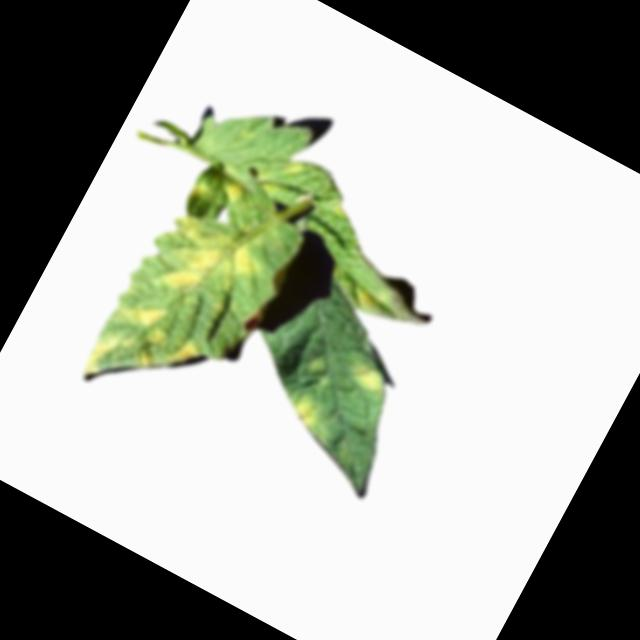Leaf_Mold: (146, 207, 267, 321), (77, 321, 162, 402), (108, 287, 178, 349), (347, 274, 397, 321), (285, 389, 329, 434), (345, 358, 391, 399), (165, 336, 203, 375), (216, 173, 252, 208), (185, 177, 209, 204)
